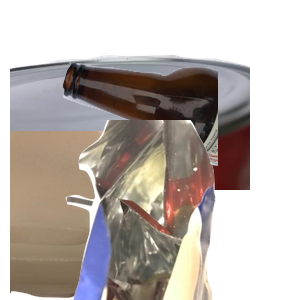glass: (60, 59, 300, 217)
metal: (10, 52, 250, 232)
plastic: (10, 131, 196, 300)
trash: (63, 120, 300, 300)
